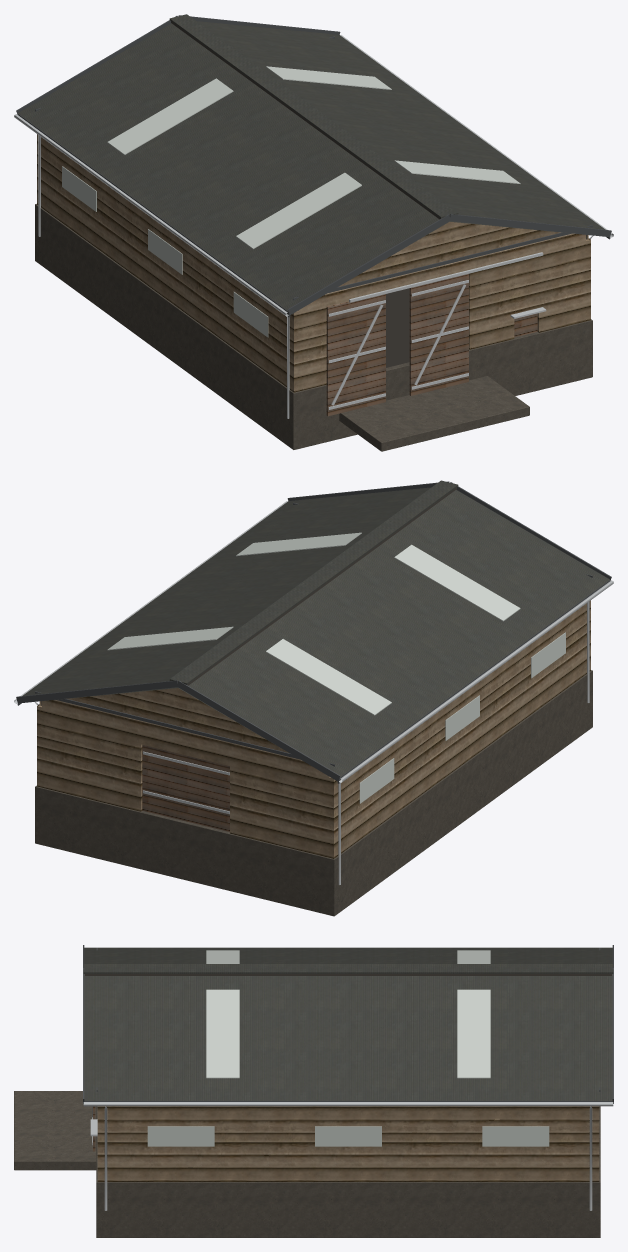
The model's file is barn-modern.glb.
3 renders of one model, top to bottom at view 1: azimuth 30°, elevation 25°; view 2: azimuth 150°, elevation 25°; view 3: azimuth 270°, elevation 25°, orthographic. The views are drawn at different scales.
Visible parts, largest first — view 1: barn-modern-plinth; view 2: barn-modern-plinth; view 3: barn-modern-plinth.
Part boxes in pixels (x1,y1,x2,y2): barn-modern-plinth: (14, 14, 613, 451); barn-modern-plinth: (14, 480, 613, 916); barn-modern-plinth: (14, 945, 613, 1237).
Bounding box in the file's own units: 13.27 × 7.88 × 21.53.
Materials: 8 (4 with a texture image).
